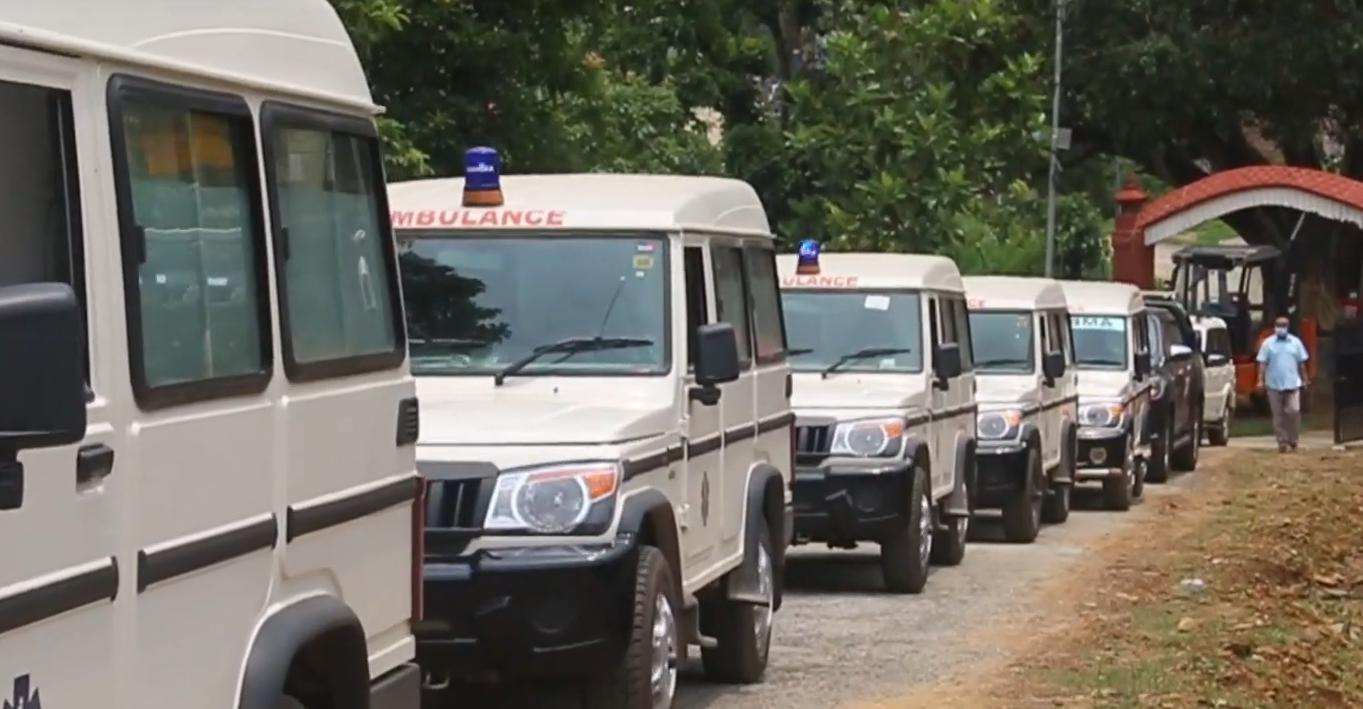ambulance: (364, 138, 808, 709), (760, 227, 976, 586)
